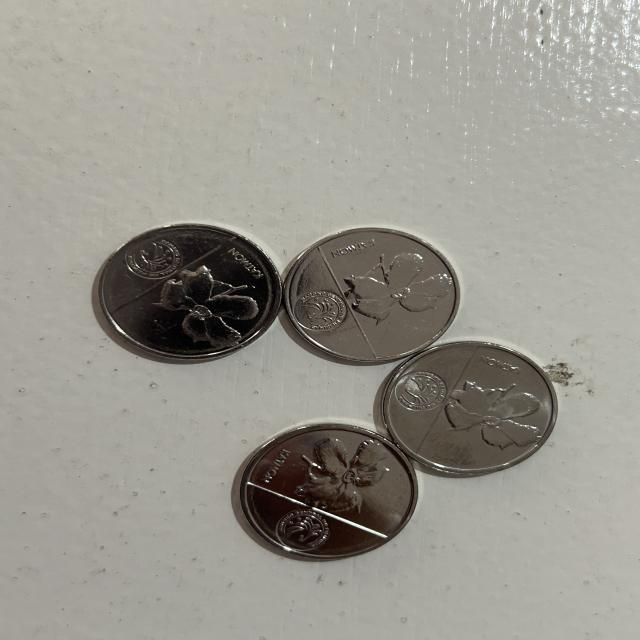25Cent_New_Back: (438, 364, 550, 459), (150, 259, 260, 353), (334, 249, 442, 337), (290, 430, 389, 514)
